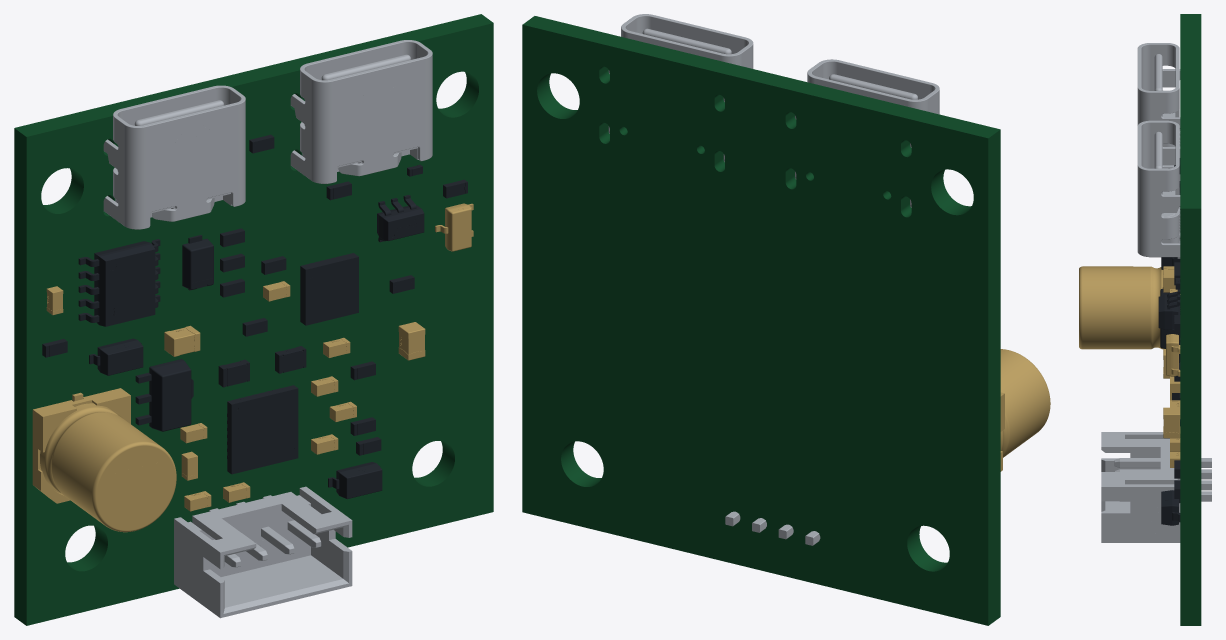
The model's file is controller.glb.
The picture shows the model from 3 angles, left to right: view 1: azimuth 30°, elevation 25°; view 2: azimuth 150°, elevation 25°; view 3: azimuth 270°, elevation 25°; orthographic projection. The views are drawn at different scales.
Parts seen in each view (by area): view 1: PCB, J_MOTOR, J_PD, J_DATA, C_BULK, U_PD, U_DRV, U_MCU, U_LDO, U_ESD, D_TVS, D_PD (+6 smaller); view 2: PCB, C_BULK, J_PD, J_DATA, J_MOTOR; view 3: PCB, J_MOTOR, C_BULK, J_DATA, J_PD, U_ESD, D_DATA, Q_DATA, C_LOGIC, C_LDO_IN.
Boxes of the visible parts, <box> form: PCB: <box>14,14,493,625</box>; J_MOTOR: <box>174,486,352,618</box>; J_PD: <box>103,85,245,229</box>; J_DATA: <box>290,40,432,183</box>; C_BULK: <box>32,388,176,532</box>; U_PD: <box>78,239,160,326</box>; U_DRV: <box>227,385,298,474</box>; U_MCU: <box>300,253,358,325</box>; U_LDO: <box>135,359,193,431</box>; U_ESD: <box>377,195,424,242</box>; D_TVS: <box>182,235,213,290</box>; D_PD: <box>89,338,143,375</box>; PCB: <box>522,16,1000,625</box>; C_BULK: <box>1000,349,1050,471</box>; J_PD: <box>795,59,939,207</box>; J_DATA: <box>608,14,753,161</box>; J_MOTOR: <box>725,511,820,545</box>; PCB: <box>1180,14,1201,625</box>; J_MOTOR: <box>1101,432,1211,542</box>; C_BULK: <box>1079,266,1163,349</box>; J_DATA: <box>1137,120,1180,258</box>; J_PD: <box>1137,43,1180,180</box>; U_ESD: <box>1158,289,1180,335</box>; D_DATA: <box>1161,490,1180,525</box>; Q_DATA: <box>1166,334,1180,376</box>; C_LOGIC: <box>1163,407,1180,438</box>; C_LDO_IN: <box>1163,266,1175,292</box>.
Size of the model in its own units: 35 by 35.4 by 10.1.
